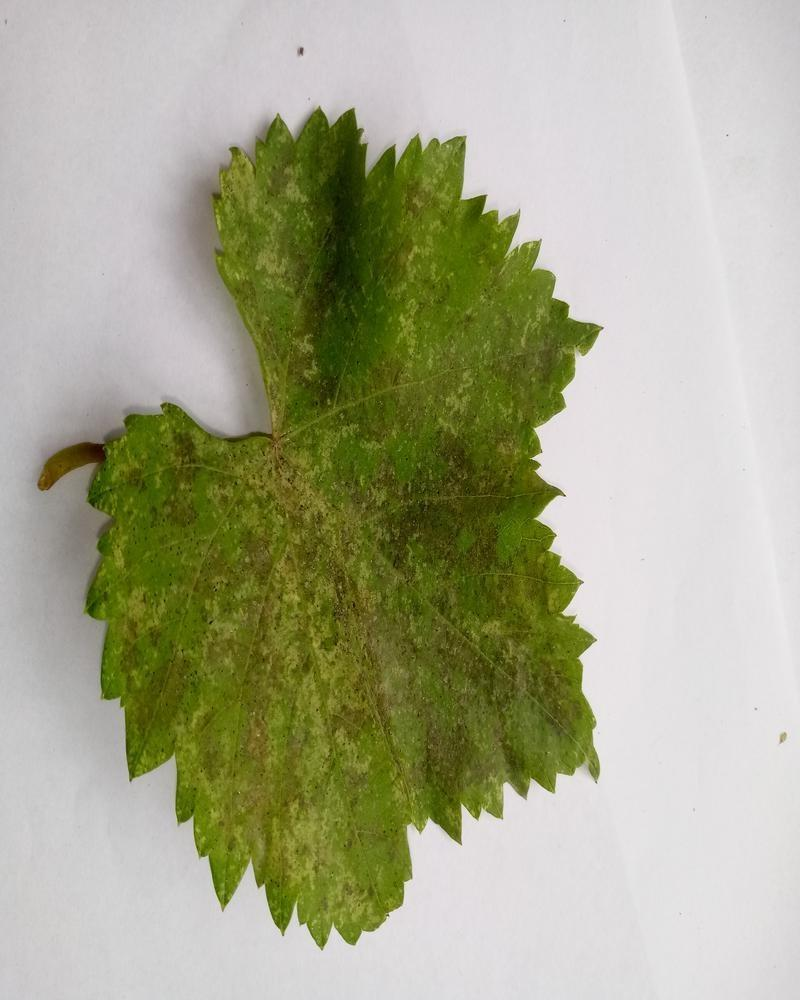Powdery-Mildew: (106, 570, 399, 926), (384, 136, 561, 468), (221, 447, 386, 729), (440, 543, 571, 788), (226, 133, 319, 292), (404, 475, 467, 538)
